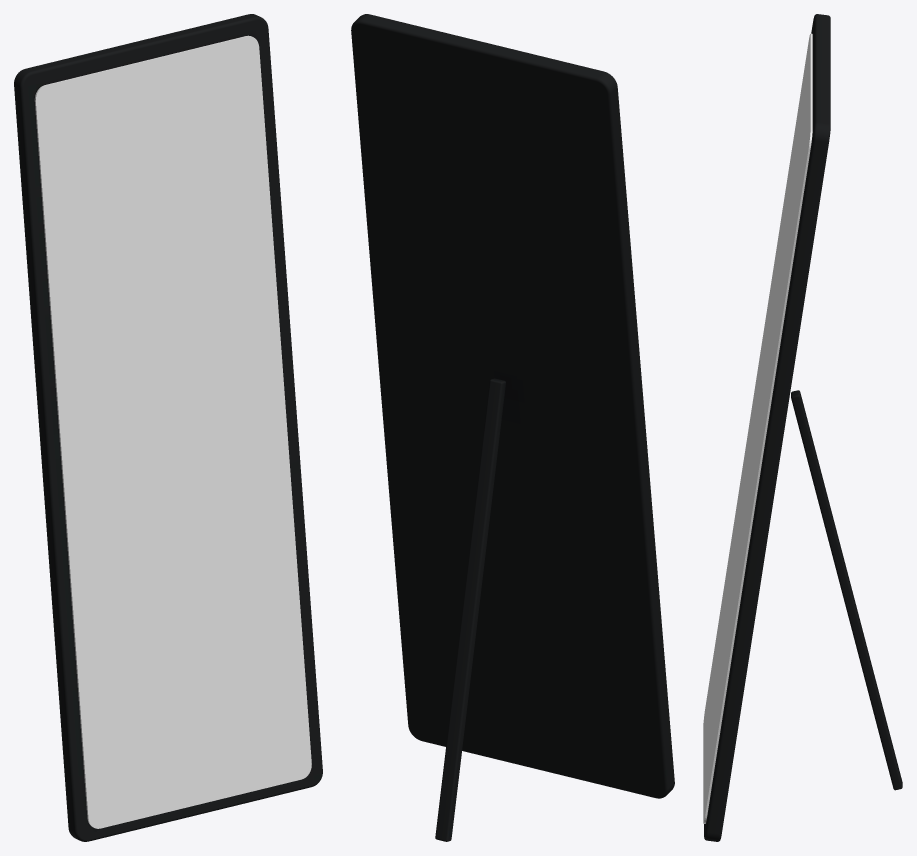
The model's file is rect-black.glb.
3 renders of one model, left to right at view 1: azimuth 30°, elevation 25°; view 2: azimuth 150°, elevation 25°; view 3: azimuth 270°, elevation 25°, orthographic. The views are drawn at different scales.
Visible parts, largest first — view 1: mirror, metal_frame; view 2: metal_frame; view 3: metal_frame, mirror.
Boxes of the visible parts, left/top/right/bottom form: mirror: left=34, top=35, right=311, bottom=828; metal_frame: left=14, top=14, right=322, bottom=841; metal_frame: left=351, top=14, right=674, bottom=841; metal_frame: left=704, top=14, right=902, bottom=841; mirror: left=703, top=33, right=812, bottom=823.
Size of the model in its own units: 0.6 by 1.69 by 0.4242.
Materials: 2 (1 with a texture image).
